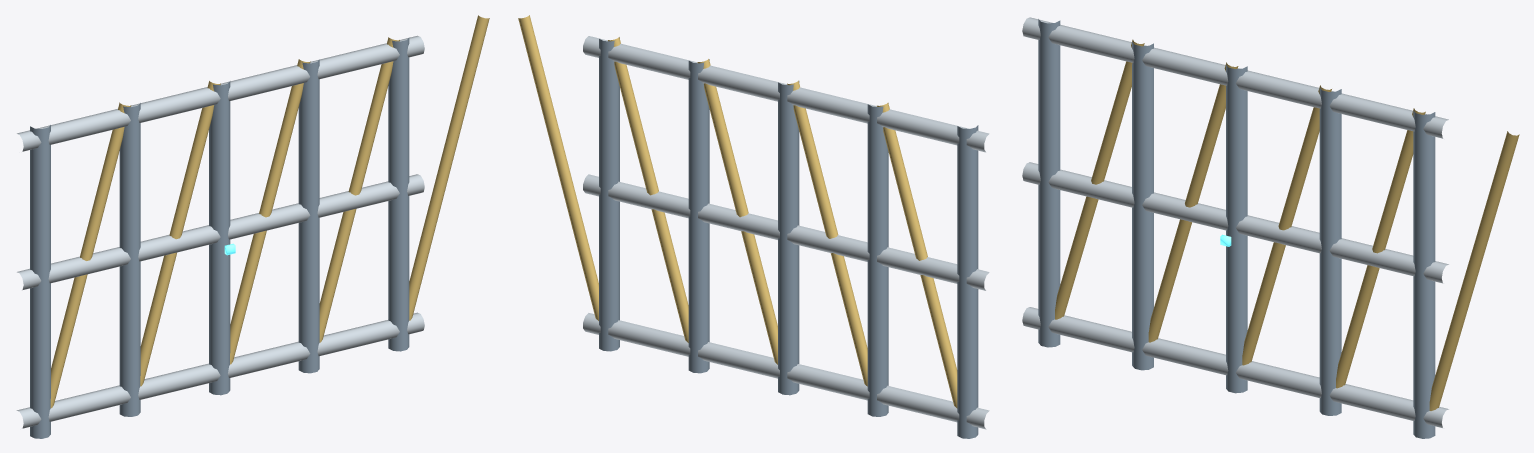
Rendered from 48_L86_RadiatorMountingSpaceTruss.glb.
3 renders of one model, left to right at view 1: azimuth 30°, elevation 25°; view 2: azimuth 150°, elevation 25°; view 3: azimuth 330°, elevation 25°, orthographic. The views are drawn at different scales.
Visible parts, largest first — view 1: L86_RadiatorMountingSpaceTrus_Part_0000, L86_RadiatorMountingSpaceTrus_Part_0002, L86_RadiatorMountingSpaceTrus_Part_0001; view 2: L86_RadiatorMountingSpaceTrus_Part_0000, L86_RadiatorMountingSpaceTrus_Part_0002, L86_RadiatorMountingSpaceTrus_Part_0001; view 3: L86_RadiatorMountingSpaceTrus_Part_0000, L86_RadiatorMountingSpaceTrus_Part_0002, L86_RadiatorMountingSpaceTrus_Part_0001.
Boxes of the visible parts, bbox=[...] form: L86_RadiatorMountingSpaceTrus_Part_0000: bbox=[30, 37, 409, 438]; L86_RadiatorMountingSpaceTrus_Part_0002: bbox=[16, 35, 424, 428]; L86_RadiatorMountingSpaceTrus_Part_0001: bbox=[50, 15, 489, 408]; L86_RadiatorMountingSpaceTrus_Part_0000: bbox=[599, 37, 978, 438]; L86_RadiatorMountingSpaceTrus_Part_0002: bbox=[583, 36, 989, 429]; L86_RadiatorMountingSpaceTrus_Part_0001: bbox=[518, 15, 957, 408]; L86_RadiatorMountingSpaceTrus_Part_0000: bbox=[1038, 19, 1435, 438]; L86_RadiatorMountingSpaceTrus_Part_0002: bbox=[1022, 17, 1448, 428]; L86_RadiatorMountingSpaceTrus_Part_0001: bbox=[1055, 39, 1519, 410].
Bounding box in the file's own units: 5.51 × 3.5 × 0.3525.
